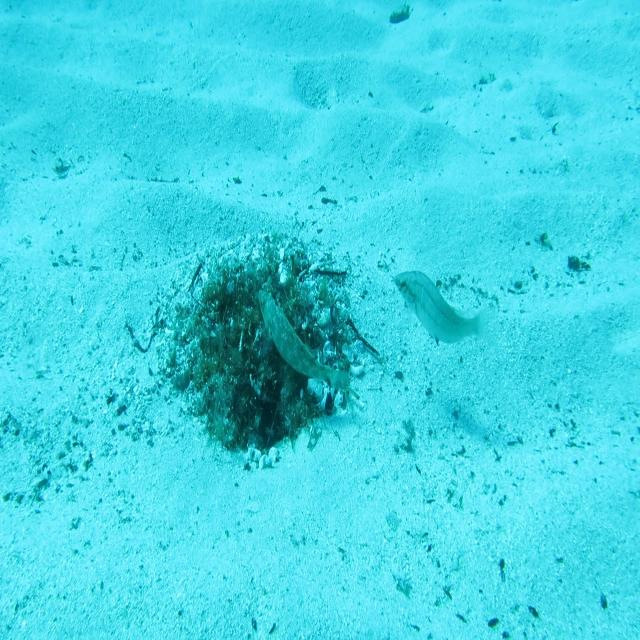FAN: (257, 288, 353, 396)
core_nest: (232, 283, 281, 320)
female: (391, 266, 497, 354)
nest: (152, 225, 370, 478)
vegetation: (389, 7, 409, 28)
